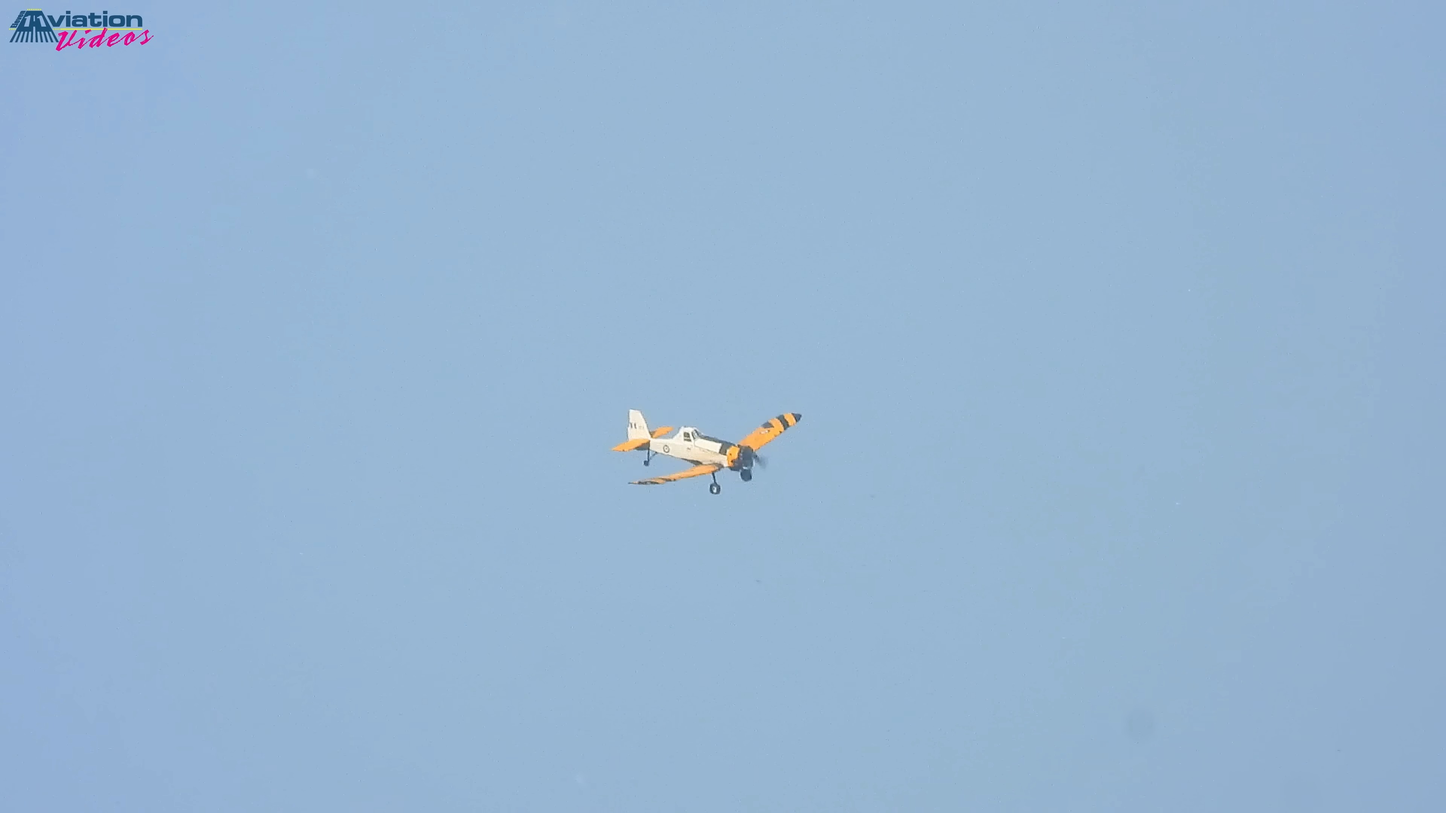airplane: (610, 398, 806, 499)
